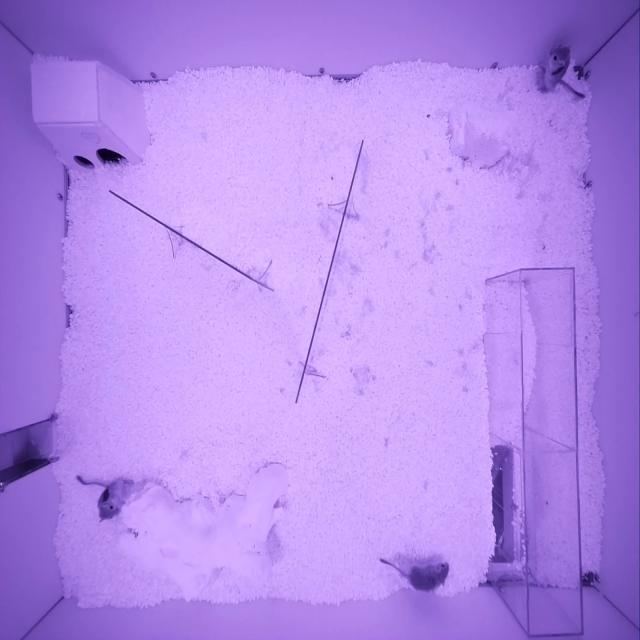pup_fluffy: (409, 561, 450, 592)
pup_h_stripe: (541, 46, 570, 90)
pup_spotted: (96, 478, 134, 524)
